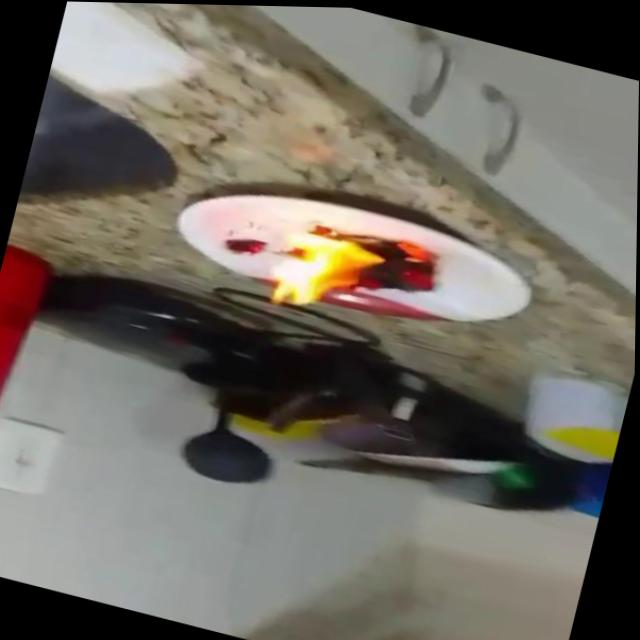Fire: (258, 204, 448, 341)
